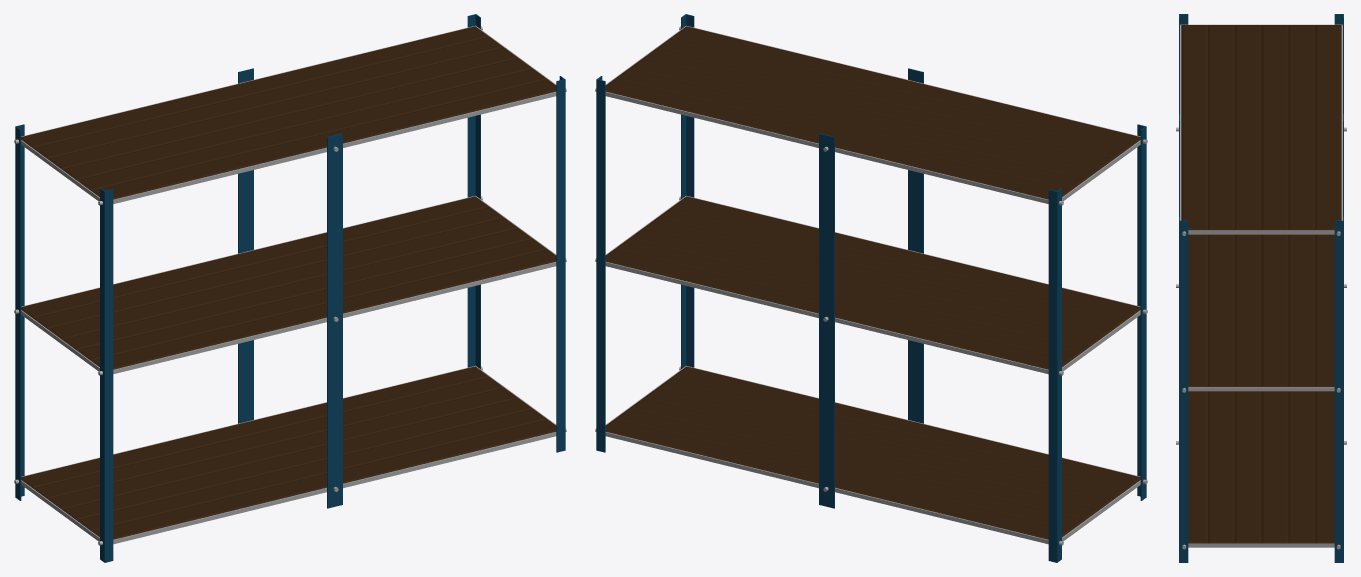
The model's file is rack_wide.fbx.
3 views of the same model, side by side, from view 1: azimuth 30°, elevation 25°; view 2: azimuth 150°, elevation 25°; view 3: azimuth 270°, elevation 25° (orthographic). The views are drawn at different scales.
Parts seen in each view (by area): view 1: rack_wide; view 2: rack_wide; view 3: rack_wide.
Part boxes in pixels (x1,y1,x2,y2): rack_wide: (14, 14, 566, 562); rack_wide: (595, 14, 1147, 562); rack_wide: (1176, 14, 1346, 562).
Bounding box in the file's own units: 2.44 × 0.84 × 1.86.
